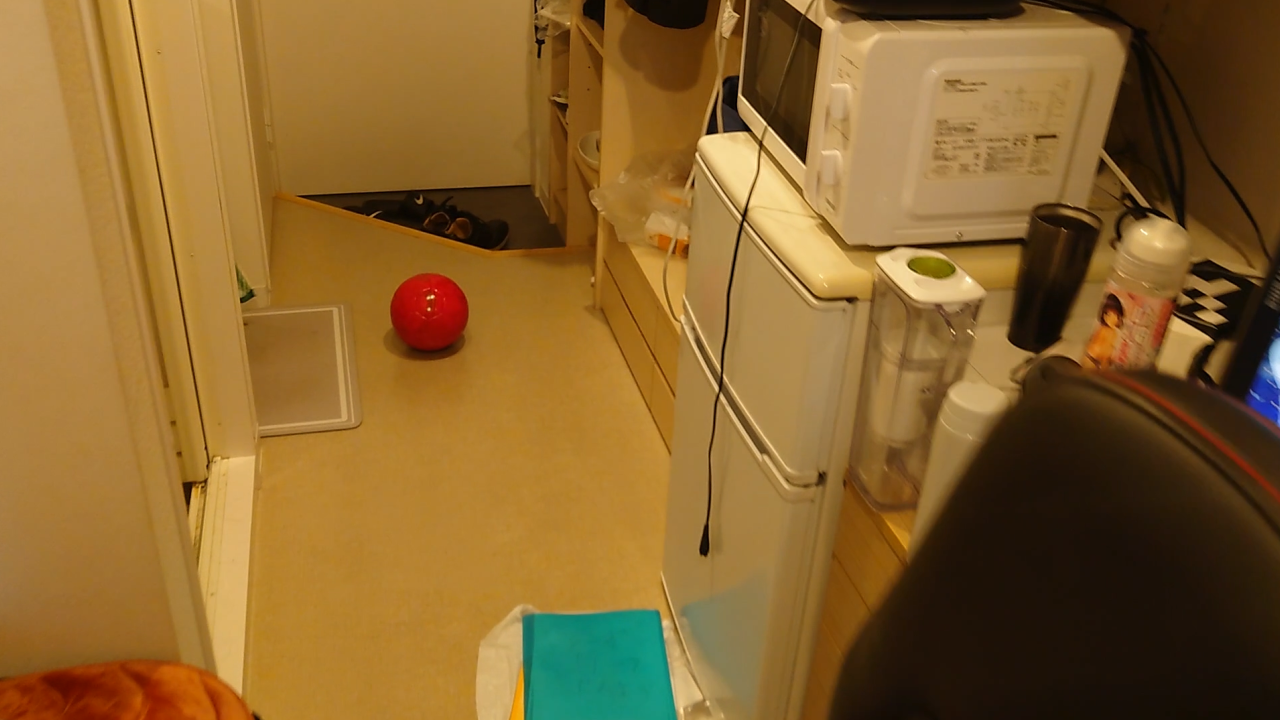red: (389, 272, 471, 353)
